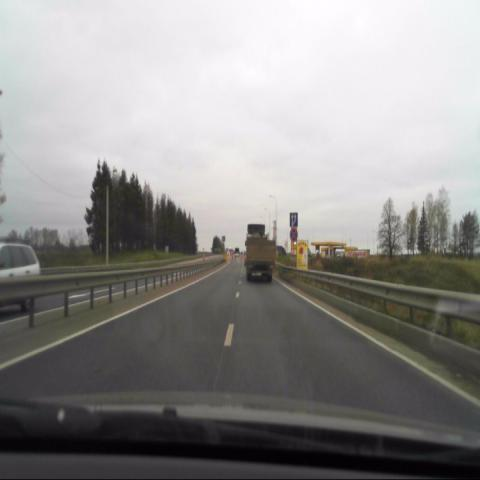3_27: (289, 227, 298, 242)
5_15_3: (290, 211, 298, 226)
